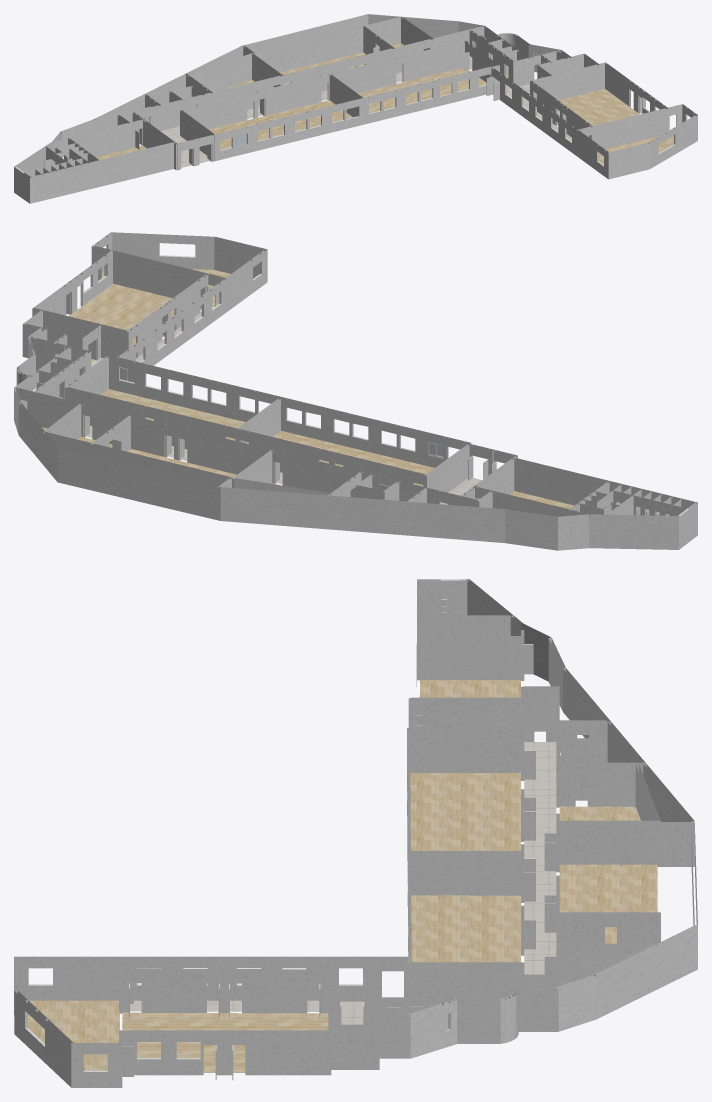
File: 1floor.FBX
3 renders of one model, top to bottom at view 1: azimuth 30°, elevation 25°; view 2: azimuth 150°, elevation 25°; view 3: azimuth 270°, elevation 25°, orthographic. The views are drawn at different scales.
Visible parts, largest first — view 1: Object001, Object002, Object005, Object006; view 2: Object001, Object002, Object005, Object006; view 3: Object001, Object002, Object006, Object005.
Part boxes in pixels (<box>): Object001: <box>14,14,697,203</box>; Object002: <box>96,43,673,164</box>; Object005: <box>44,46,566,167</box>; Object006: <box>160,56,571,167</box>; Object001: <box>14,232,697,550</box>; Object002: <box>42,269,573,509</box>; Object005: <box>84,288,498,504</box>; Object006: <box>85,308,481,504</box>; Object001: <box>14,579,697,1087</box>; Object002: <box>28,680,657,1072</box>; Object006: <box>130,742,556,1024</box>; Object005: <box>129,644,604,1024</box>.
Size of the model in its own units: 17387 by 776 by 10805.
